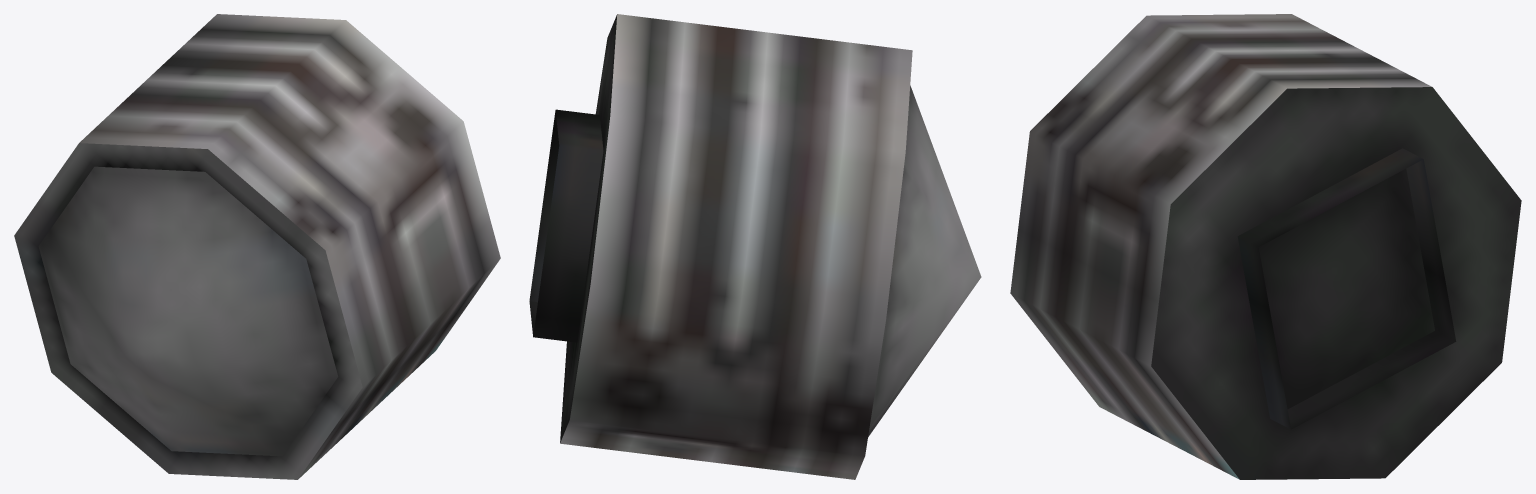
The picture shows the model from 3 angles, left to right: view 1: azimuth 30°, elevation 25°; view 2: azimuth 150°, elevation 25°; view 3: azimuth 270°, elevation 25°; orthographic projection. The views are drawn at different scales.
Visible parts, largest first — view 1: Heavy arc cells | extracted from heavy-arc-rifle; view 2: Heavy arc cells | extracted from heavy-arc-rifle; view 3: Heavy arc cells | extracted from heavy-arc-rifle.
Part boxes in pixels (<box>): Heavy arc cells | extracted from heavy-arc-rifle: <box>14,14,500,479</box>; Heavy arc cells | extracted from heavy-arc-rifle: <box>529,14,981,479</box>; Heavy arc cells | extracted from heavy-arc-rifle: <box>1010,14,1521,479</box>.
Bounding box in the file's own units: 1.28 × 1.26 × 1.39.
1 material, 1 textured.
